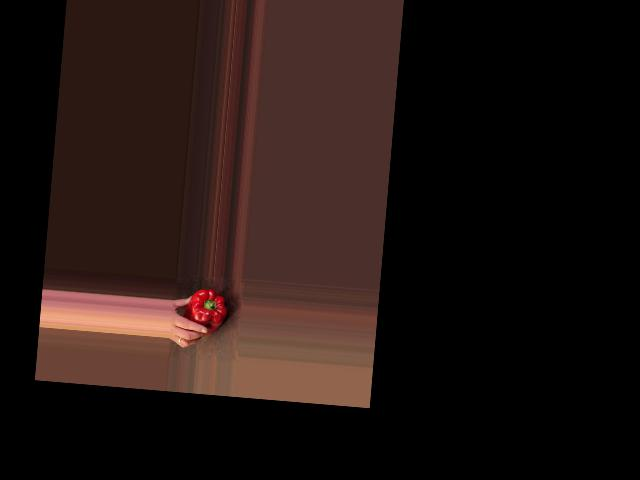bell_pepper: (184, 286, 229, 333)
